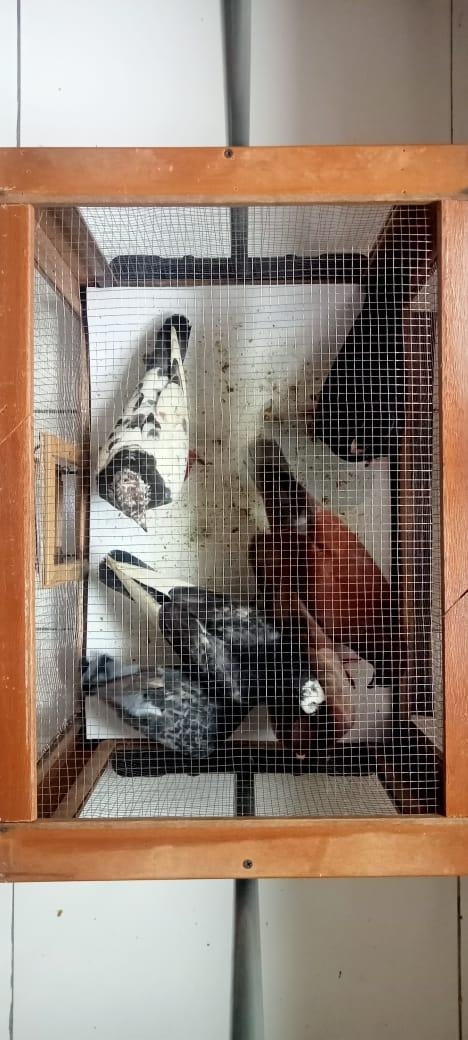Merpati: (241, 439, 409, 687), (95, 550, 325, 720), (249, 533, 354, 763), (94, 316, 191, 533), (78, 656, 258, 758), (318, 273, 409, 464)
